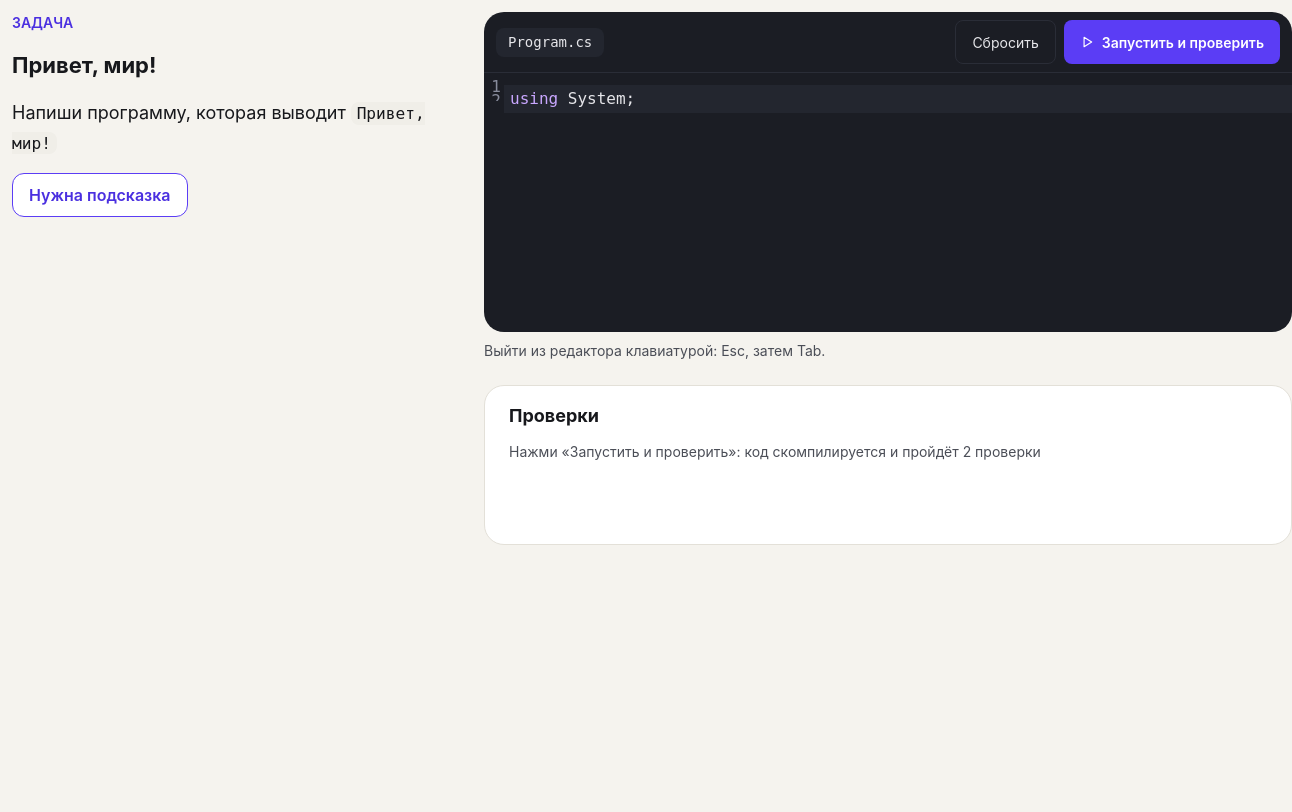
Scenario: LessonTask › проваленная проверка — подпись, сообщение из задачи и вывод программы
This screenshot has width=1292, height=812.
What coordinates should you click on to do the following:
click the button "Запустить и проверить"
I would click on:
 (1172, 42)
Its box is [1064, 20, 1280, 64].
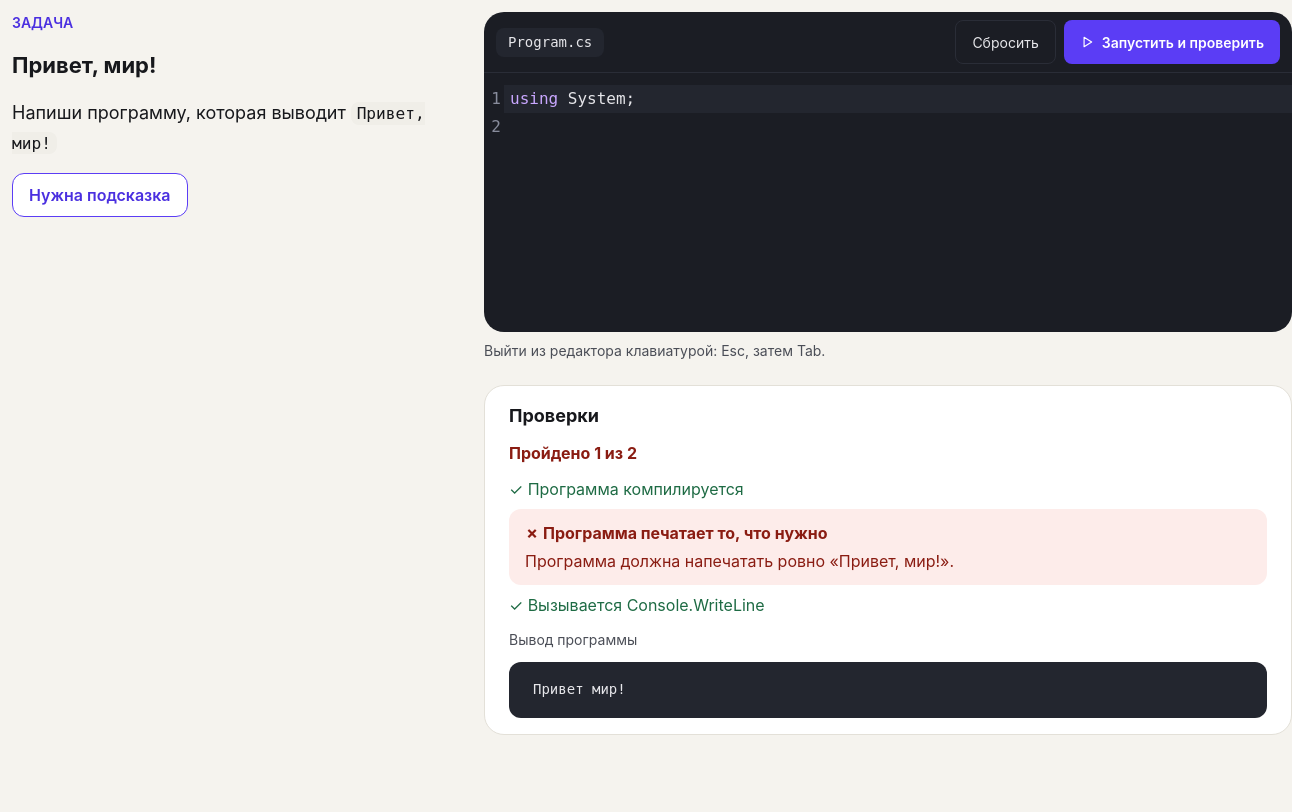
Now the text "Пройдено 1 из 2" is shown, box [509, 443, 637, 463]
Now the text "✓ Программа компилируется" is shown, box [509, 479, 744, 499]
Now the text "✗ Программа печатает то, что нужно" is shown, box [525, 523, 828, 543]
